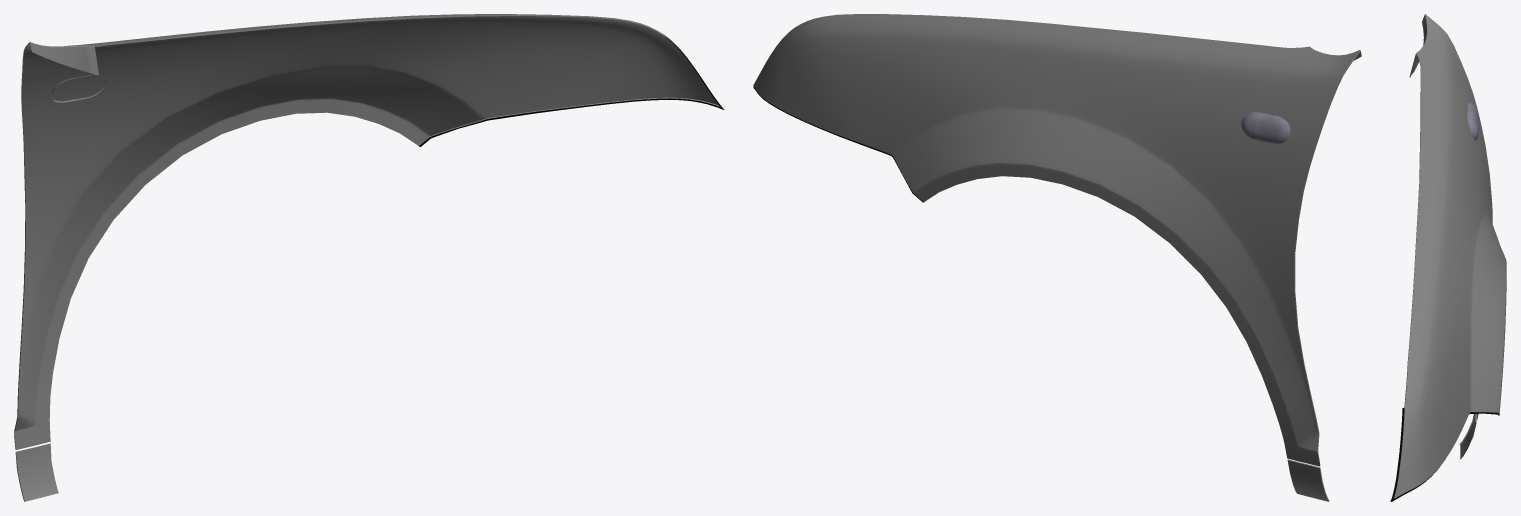
3 views of the same model, side by side, from view 1: azimuth 30°, elevation 25°; view 2: azimuth 150°, elevation 25°; view 3: azimuth 270°, elevation 25° (orthographic). The views are drawn at different scales.
Visible parts, largest first — view 1: X6163_121B_L_X6163_121B_L_1_DaS, X6163_121B_L_X6163_121B_L_1_DaS_E, X6163_121B_L_4_D_X6163_121B_L; view 2: X6163_121B_L_X6163_121B_L_1_DaS, X6163_121B_L_X6163_121B_L_3_DTaSI, X6163_121B_L_X6163_121B_L_2_N, X6163_121B_L_X6163_121B_L_1_DaS_E; view 3: X6163_121B_L_X6163_121B_L_1_DaS, X6163_121B_L_X6163_121B_L_1_DaS_E, X6163_121B_L_4_D_X6163_121B_L, X6163_121B_L_X6163_121B_L_3_DTaSI, X6163_121B_L_X6163_121B_L_2_N.
Boxes of the visible parts, x1,y1,x2,y2 form: X6163_121B_L_X6163_121B_L_1_DaS: [15, 14, 718, 501]; X6163_121B_L_X6163_121B_L_1_DaS_E: [14, 14, 721, 501]; X6163_121B_L_4_D_X6163_121B_L: [419, 37, 724, 146]; X6163_121B_L_X6163_121B_L_1_DaS: [753, 14, 1359, 501]; X6163_121B_L_X6163_121B_L_3_DTaSI: [1240, 112, 1290, 143]; X6163_121B_L_X6163_121B_L_2_N: [1241, 112, 1289, 143]; X6163_121B_L_X6163_121B_L_1_DaS_E: [1288, 46, 1361, 501]; X6163_121B_L_X6163_121B_L_1_DaS: [1394, 14, 1506, 498]; X6163_121B_L_X6163_121B_L_1_DaS_E: [1393, 14, 1499, 498]; X6163_121B_L_4_D_X6163_121B_L: [1390, 408, 1499, 501]; X6163_121B_L_X6163_121B_L_3_DTaSI: [1467, 102, 1479, 140]; X6163_121B_L_X6163_121B_L_2_N: [1467, 103, 1478, 139].
Bounding box in the file's own units: 141 × 95.05 × 23.59.
